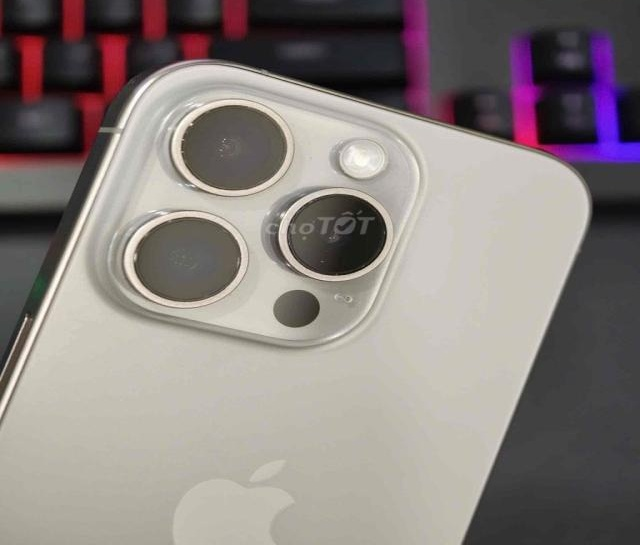scratch: (81, 90, 393, 327)
